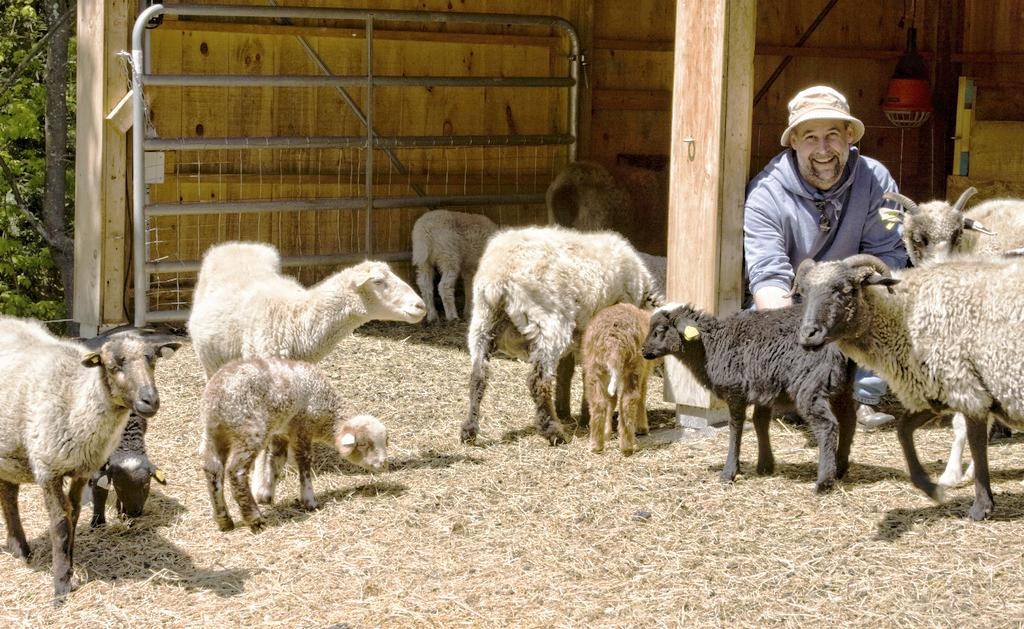Sheep: (780, 214, 1023, 522), (0, 312, 179, 604), (645, 299, 862, 497), (485, 224, 642, 445), (190, 242, 427, 382), (198, 356, 385, 530), (32, 316, 172, 542), (855, 174, 1024, 270), (410, 206, 498, 327)
